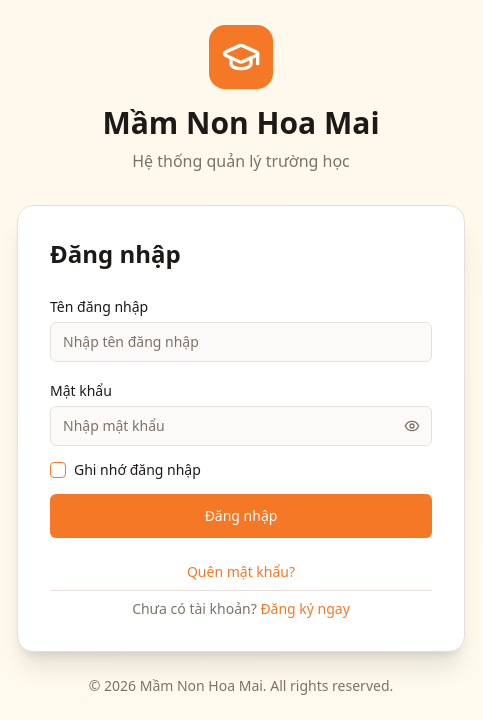
Scenario: LoginPage › shows error message on failed login
In the field labelled "Tên đăng nhập": (241, 342) [50,322,432,362], type "wronguser"
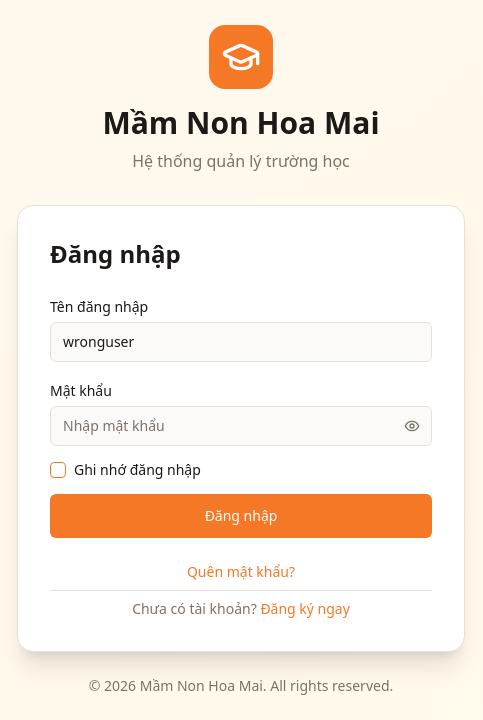
In the password field labelled "Mật khẩu": (241, 426) [50,406,432,446], type "wrongpass"
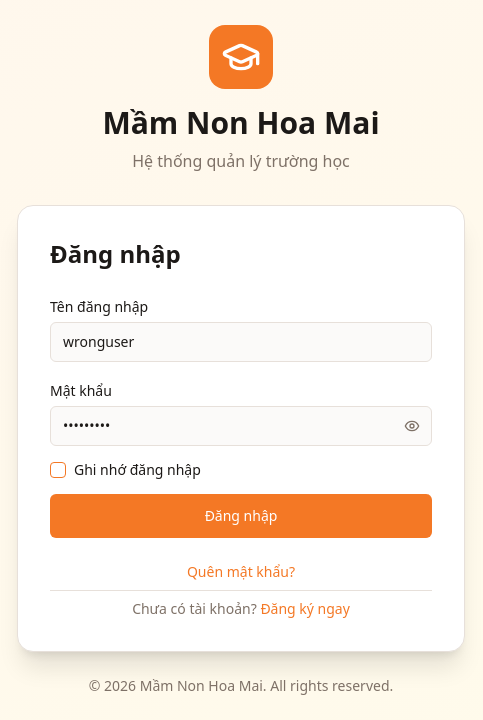
Click the button "Đăng nhập": (241, 516) [50,494,432,538]
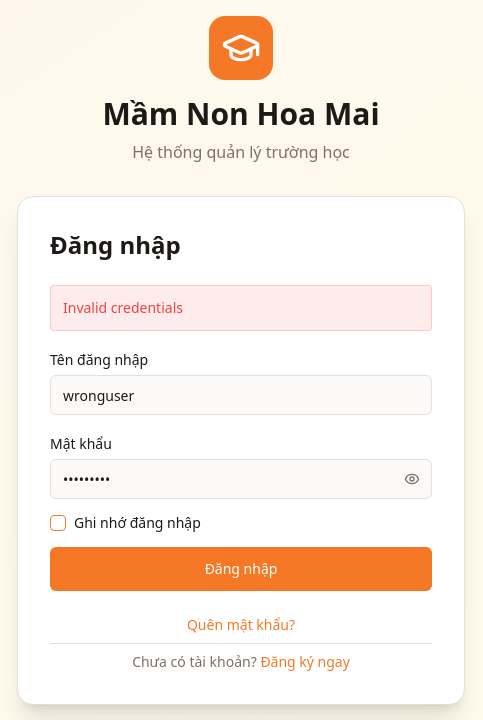
Now the text "Invalid credentials" is shown, box [50,285,432,331]
